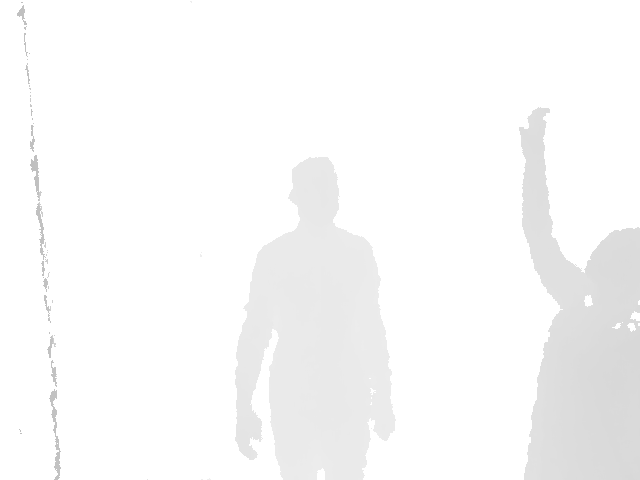hand: (519, 107, 551, 154)
head: (581, 226, 640, 314), (290, 156, 341, 226)
person: (233, 155, 397, 479), (519, 107, 640, 480)
